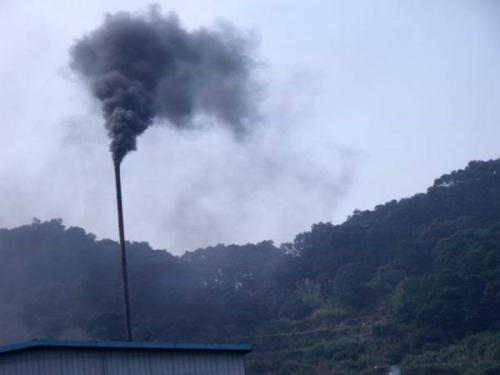smoke: (67, 12, 221, 160)
